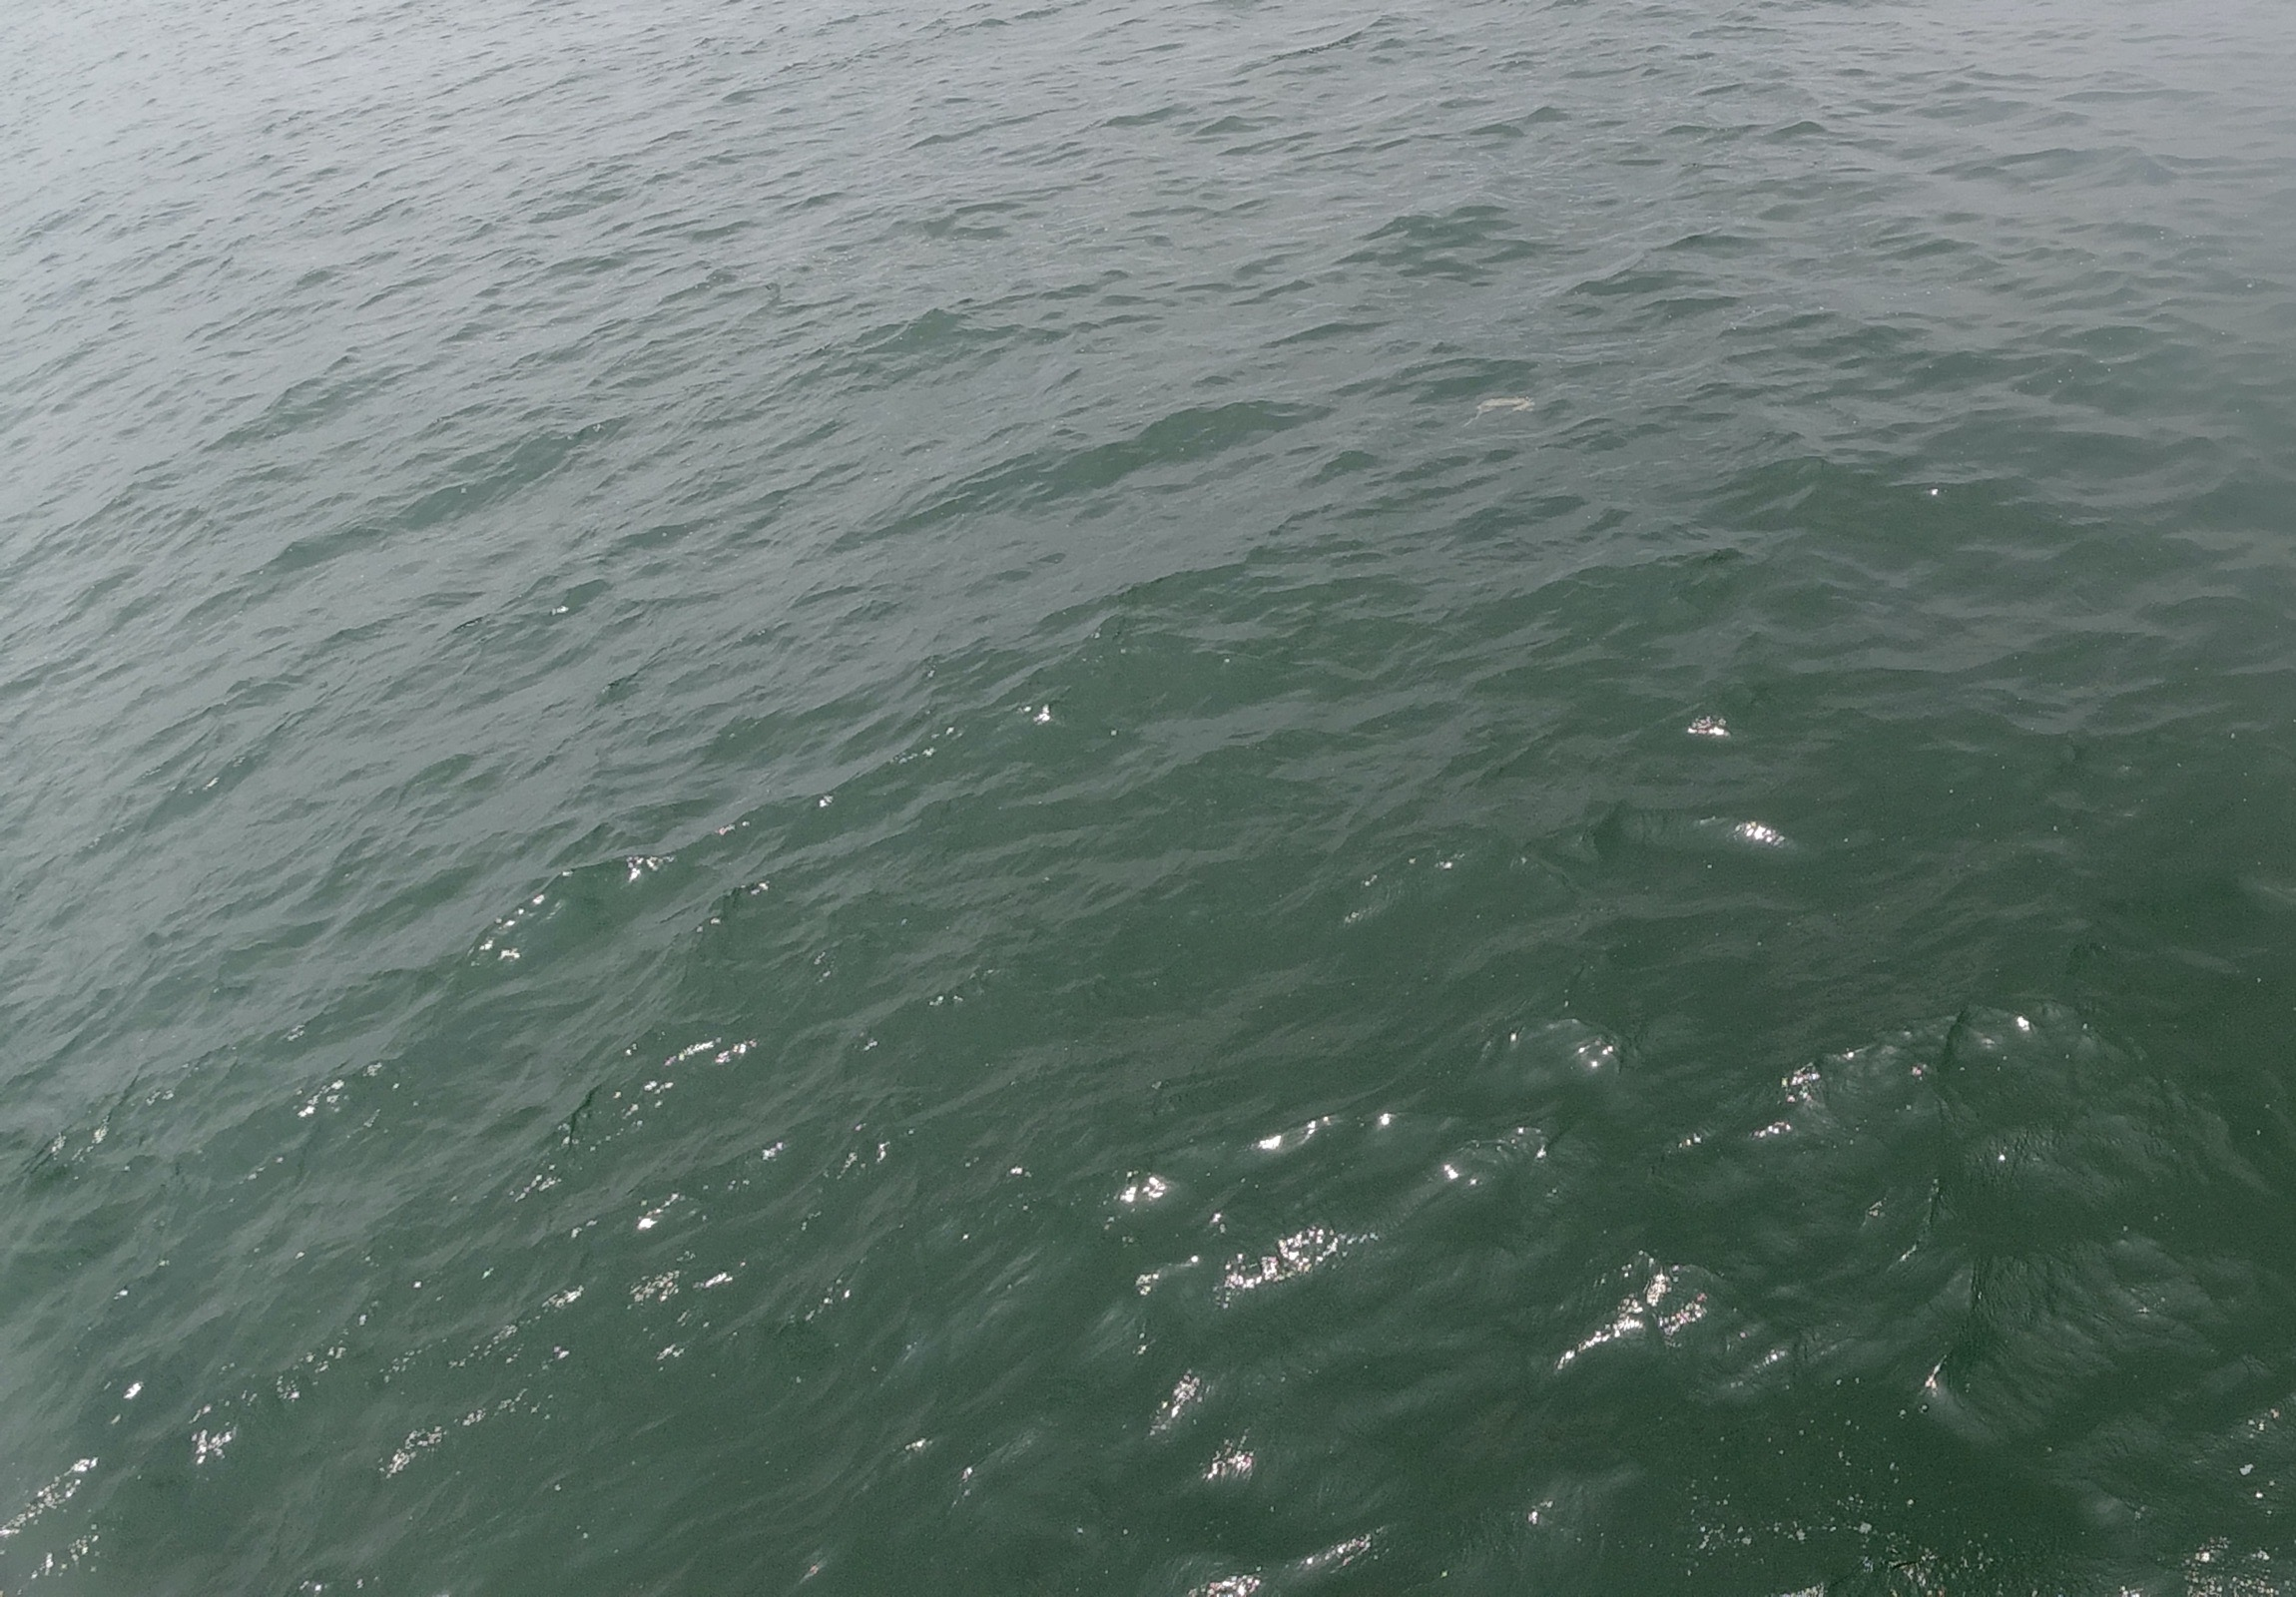plastic: (1455, 387, 1544, 436)
